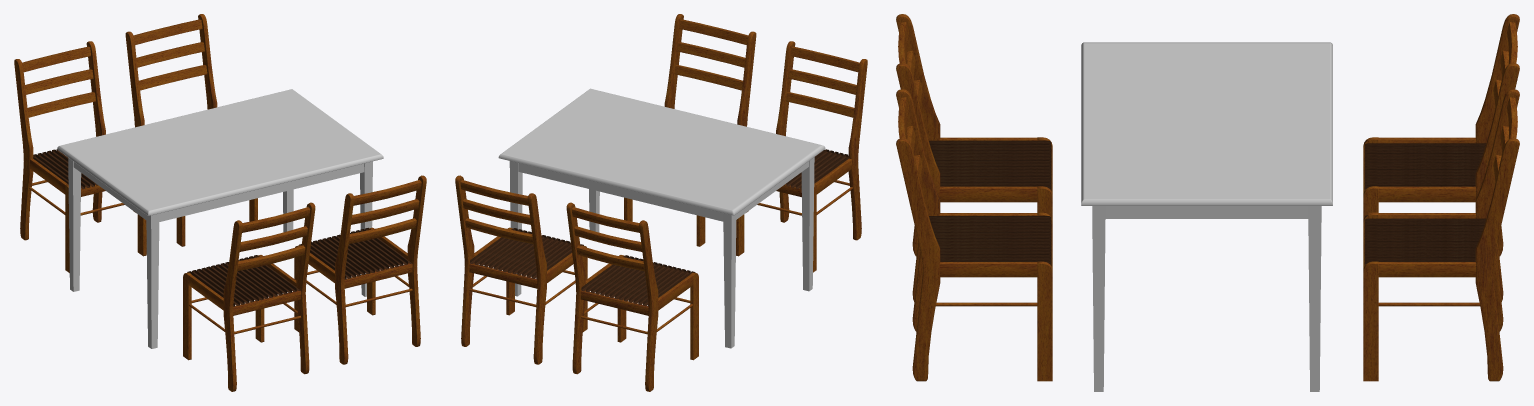
File: Dining chair 2.dae
The picture shows the model from 3 angles, left to right: view 1: azimuth 30°, elevation 25°; view 2: azimuth 150°, elevation 25°; view 3: azimuth 270°, elevation 25°; orthographic projection. The views are drawn at different scales.
Parts seen in each view (by area): view 1: Table, Chair_2, Chair_3, Chair_1, Chair_4; view 2: Table, Chair_1, Chair_4, Chair_2, Chair_3; view 3: Table, Chair_3, Chair_4, Chair_2, Chair_1.
Part boxes in pixels (<box>): Table: <box>57,89,383,348</box>; Chair_2: <box>183,202,315,391</box>; Chair_3: <box>294,175,426,364</box>; Chair_1: <box>14,41,146,272</box>; Chair_4: <box>125,14,257,246</box>; Table: <box>498,88,825,348</box>; Chair_1: <box>566,202,698,391</box>; Chair_4: <box>455,175,587,364</box>; Chair_2: <box>736,41,867,272</box>; Chair_3: <box>624,14,756,246</box>; Table: <box>1081,42,1332,391</box>; Chair_3: <box>896,89,1052,381</box>; Chair_4: <box>1363,89,1519,381</box>; Chair_2: <box>896,14,1052,301</box>; Chair_1: <box>1363,14,1519,301</box>.
Bounding box in the file's own units: 1.31 × 2.17 × 0.926.
